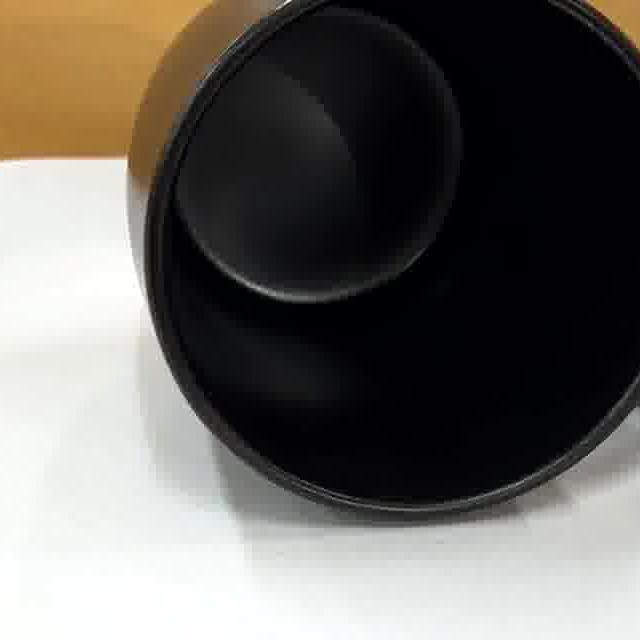cup: (146, 0, 640, 522)
